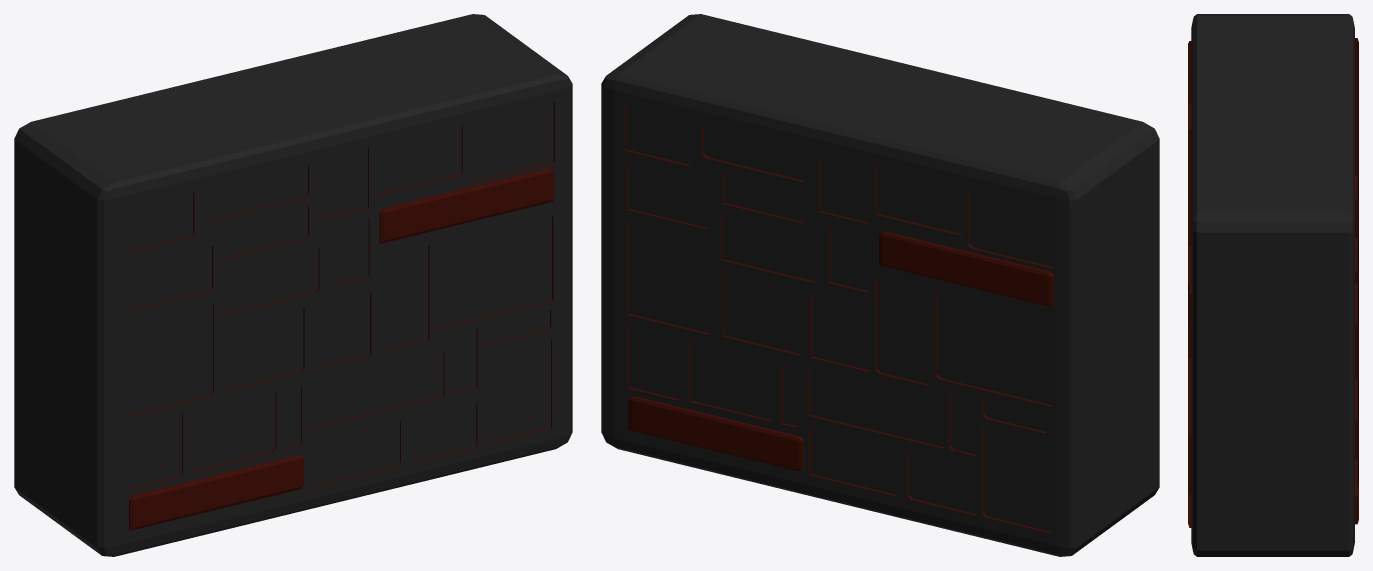
File: wall_3D.glb
The picture shows the model from 3 angles, left to right: view 1: azimuth 30°, elevation 25°; view 2: azimuth 150°, elevation 25°; view 3: azimuth 270°, elevation 25°; orthographic projection. The views are drawn at different scales.
Parts seen in each view (by area): view 1: wall_3D; view 2: wall_3D; view 3: wall_3D.
Part boxes in pixels (box(x1,y1,x2,y2)): wall_3D: box(14, 14, 572, 556); wall_3D: box(601, 14, 1159, 556); wall_3D: box(1188, 14, 1358, 556).
Bounding box in the file's own units: 2.66 × 2 × 0.9048.
1 material, 1 textured.
